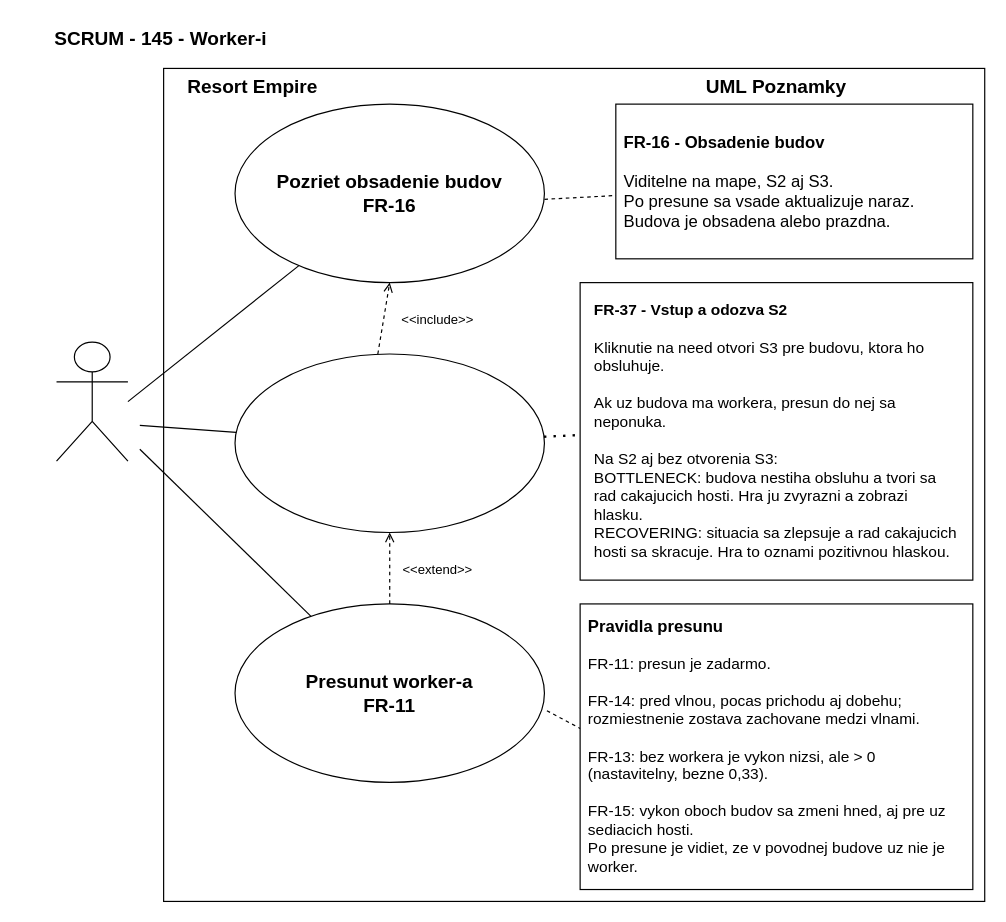
Some shapes in this 1006 by 922 pixel diagram are drawn without their labels. Each missing label, with the centre of its shape:
Hrac: (91,401)
Otvorit S3 pre budovu FR-3 7: (389,443)
